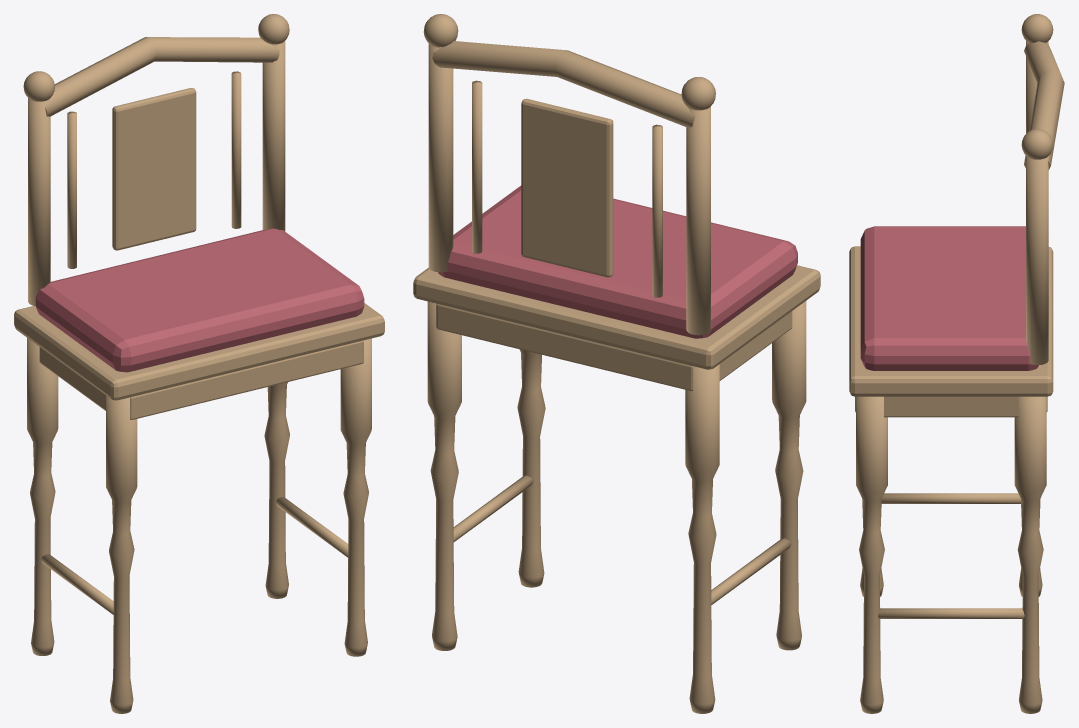
Rendered from chair.glb.
The picture shows the model from 3 angles, left to right: view 1: azimuth 30°, elevation 25°; view 2: azimuth 150°, elevation 25°; view 3: azimuth 270°, elevation 25°; orthographic projection. The views are drawn at different scales.
Parts seen in each view (by area): view 1: chair; view 2: chair; view 3: chair.
Part boxes in pixels (<box>): chair: <box>14,14,384,713</box>; chair: <box>413,14,820,713</box>; chair: <box>849,14,1064,713</box>.
Size of the model in its own units: 1.4 by 2.83 by 0.95.
